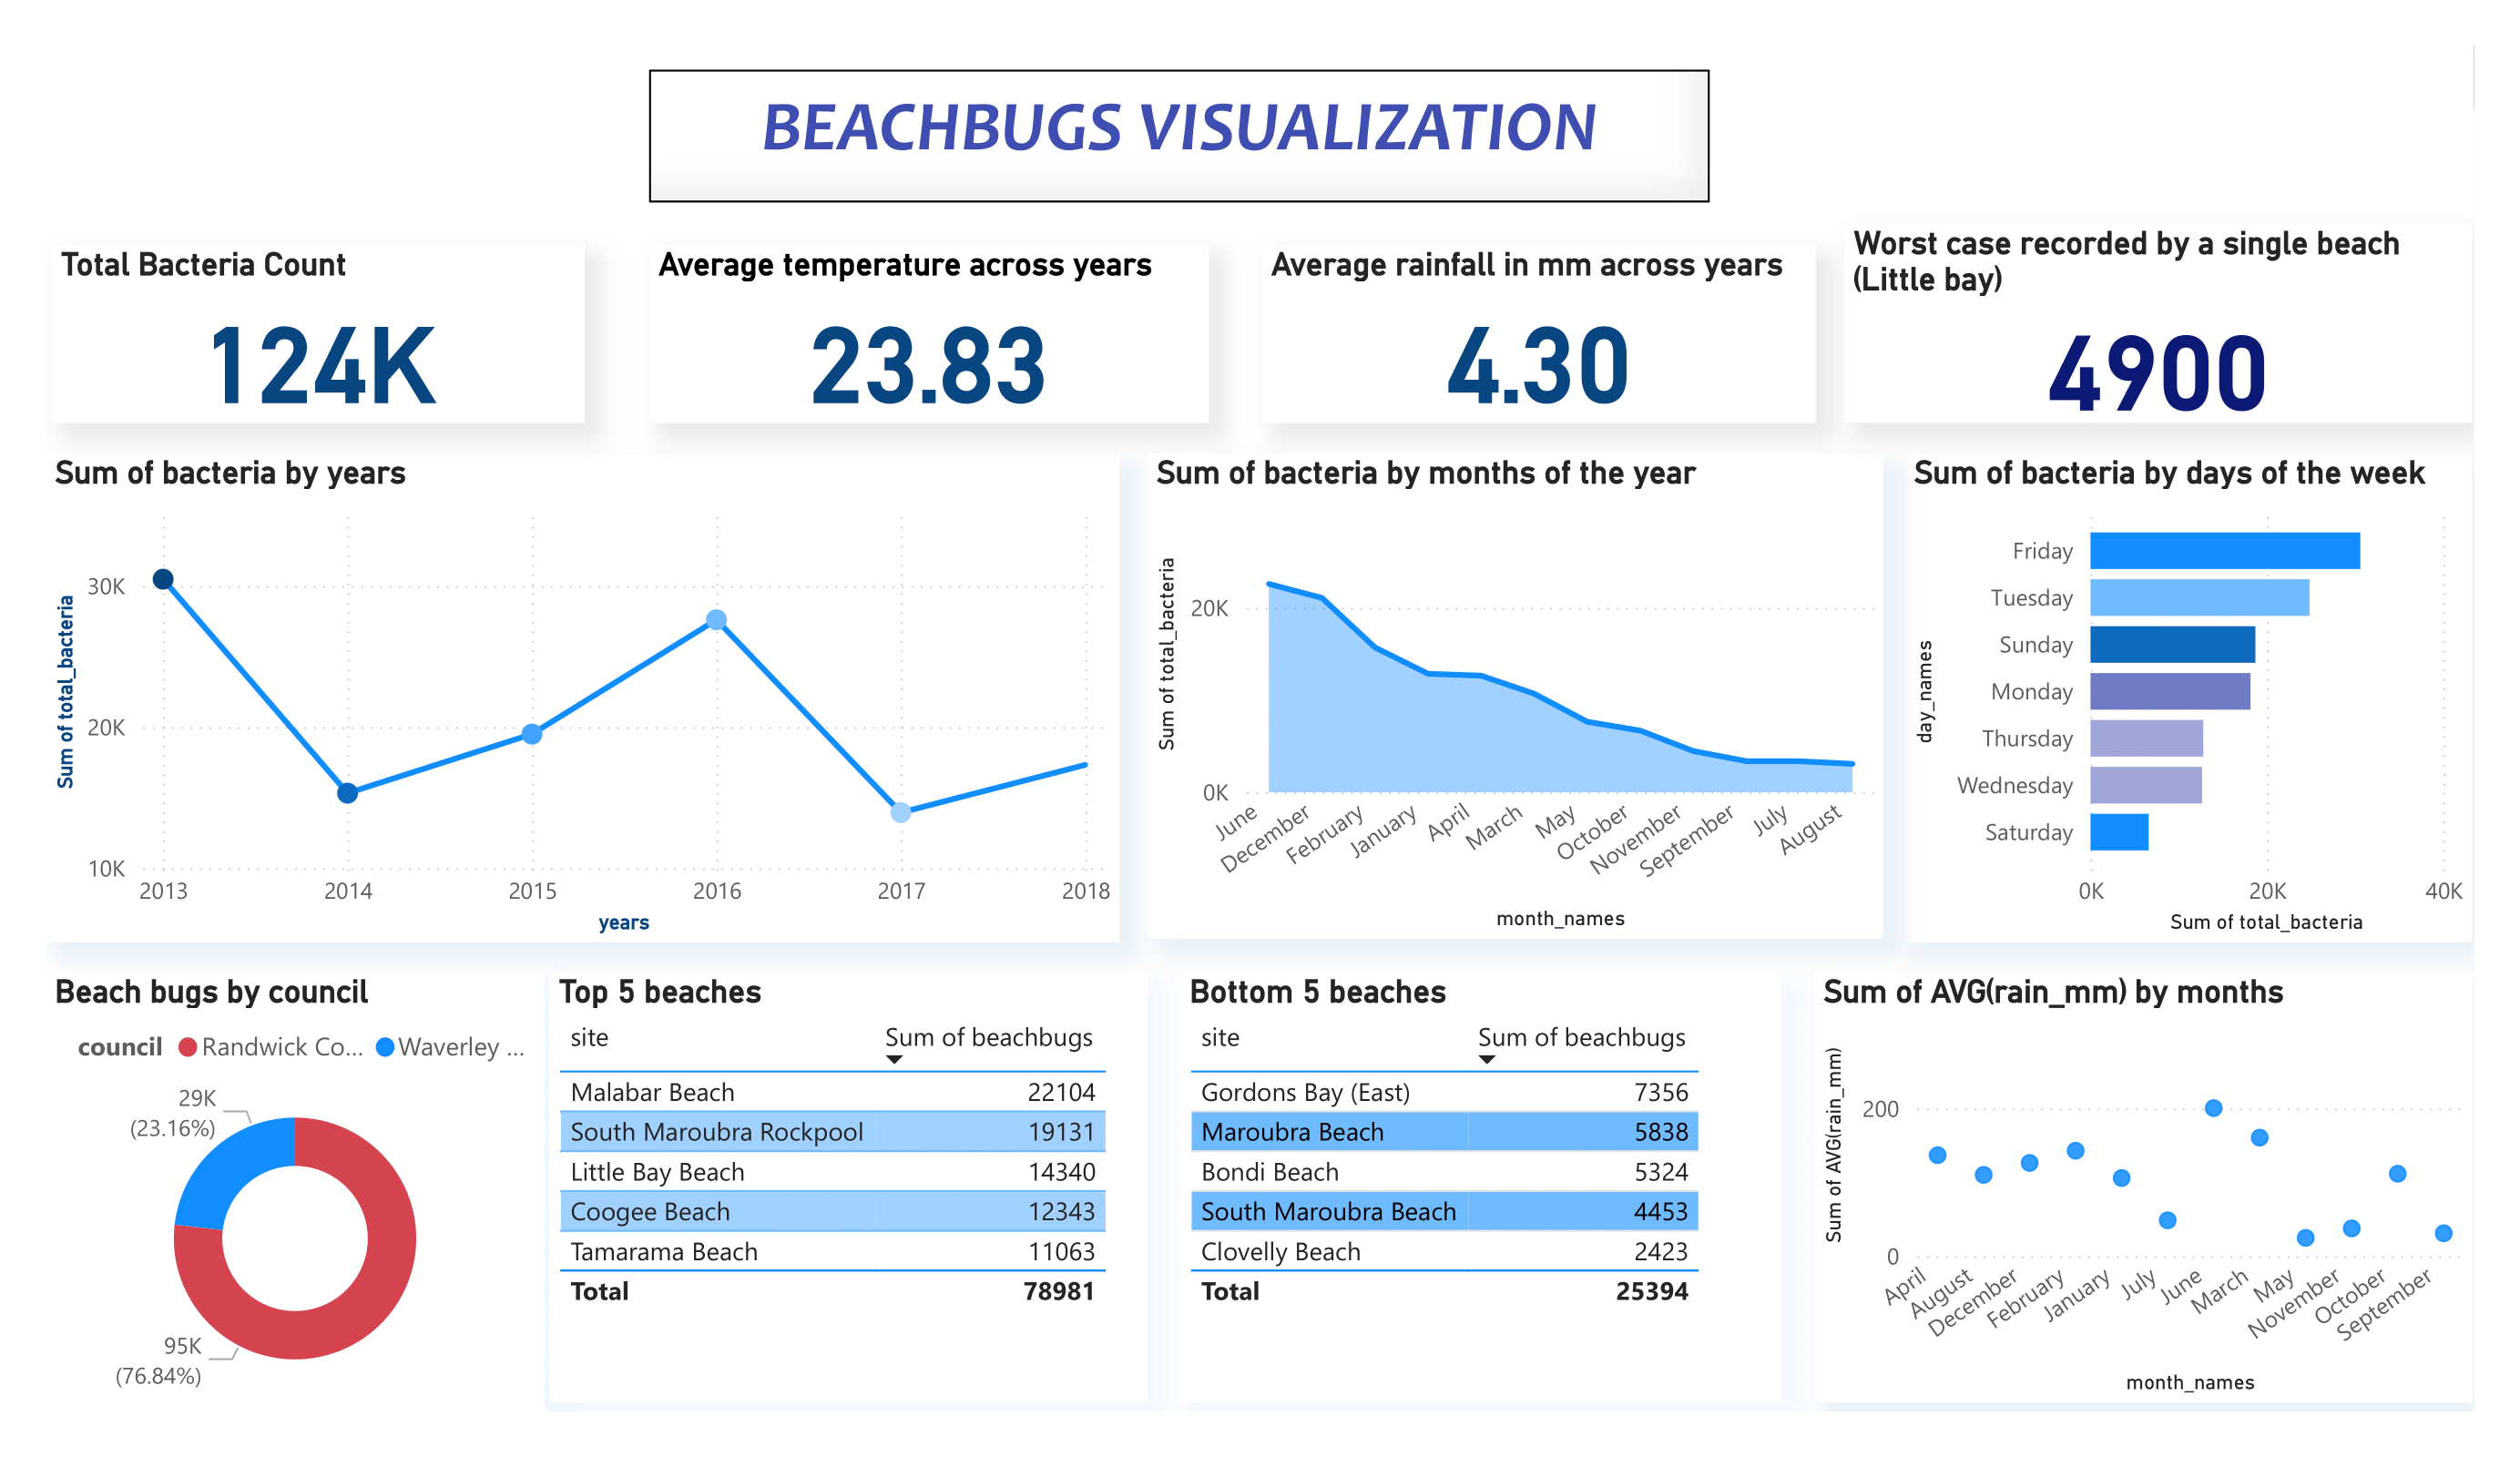

What the dashboard file says about the page in this screenshot:
{"tool":"powerbi","page":{"name":"Page 1","canvas":[1280,720],"ordinal":0},"visuals":[{"type":"textbox","box":[317.8,13,559.5,69.7],"z":0},{"type":"lineChart","title":"Sum of bacteria by years","fields":{"Category":["bacteria_by_day_month (2).years"],"Y":["Sum(bacteria_by_day_month (2).total_bacteria)"]},"box":[0,214.7,566.3,257.7],"z":1000},{"type":"card","title":"Total Bacteria Count","fields":{"Values":["Sum(bacteria_by_day_month (2).total_bacteria)"]},"box":[3.2,105.4,280.5,94.1],"z":2000},{"type":"card","title":"Average temperature across years","fields":{"Values":["Avg(bacteria_by_day_month (2).Avg_temp)"]},"box":[317.8,105.4,295.1,94.1],"z":3000},{"type":"card","title":"Average rainfall in mm across years","fields":{"Values":["Avg(bacteria_by_day_month (2).AVG(rain_mm))"]},"box":[640.5,105.4,291.9,94.1],"z":4000},{"type":"barChart","title":"Sum of bacteria by days of the week","fields":{"Category":["bacteria_by_day_month (2).day_names"],"Y":["Sum(bacteria_by_day_month (2).total_bacteria)"]},"box":[979.8,214.7,299,257.7],"z":5000},{"type":"areaChart","title":"Sum of bacteria by months of the year","fields":{"Category":["bacteria_by_day_month (2).month_names"],"Y":["Sum(bacteria_by_day_month (2).total_bacteria)"]},"box":[580.6,214.7,388.1,256.1],"z":6000},{"type":"scatterChart","title":"Sum of AVG(rain_mm) by months","fields":{"Y":["Sum(bacteria_by_day_month (2).AVG(rain_mm))"],"X":["bacteria_by_day_month (2).month_names"]},"box":[932.4,488.1,347,227],"z":7000},{"type":"card","title":"Worst case recorded by a single beach (Little bay)","fields":{"Values":["bugcount_beaches.Measure"]},"box":[948.7,94.1,330.8,105.4],"z":8000},{"type":"donutChart","title":"Beach bugs by council","fields":{"Y":["Sum(bugcount_council.total)"],"Category":["bugcount_council.council"]},"box":[0,488.1,262.7,231.9],"z":9000},{"type":"tableEx","title":"Top 5 beaches","fields":{"Values":["bugcount_beaches.site","Sum(bugcount_beaches.beachbugs)"]},"box":[265.9,488.1,314.6,227],"z":10000},{"type":"tableEx","title":"Bottom 5 beaches","fields":{"Values":["bugcount_beaches.site","Sum(bugcount_beaches.beachbugs)"]},"box":[598.1,488.3,316.5,227.5],"z":11000}]}

Visuals, with their boxes in screenshot pixels (x1, y1, x2, y2):
textbox: BBox(648, 70, 1710, 202)
"Sum of bacteria by years" lineChart: BBox(46, 453, 1120, 942)
"Total Bacteria Count" card: BBox(52, 246, 584, 424)
"Average temperature across years" card: BBox(648, 246, 1209, 424)
"Average rainfall in mm across years" card: BBox(1261, 246, 1815, 424)
"Sum of bacteria by days of the week" barChart: BBox(1905, 453, 2472, 942)
"Sum of bacteria by months of the year" areaChart: BBox(1148, 453, 1883, 939)
"Sum of AVG(rain_mm) by months" scatterChart: BBox(1815, 972, 2474, 1402)
"Worst case recorded by a single beach (Little bay)" card: BBox(1846, 224, 2474, 424)
"Beach bugs by council" donutChart: BBox(46, 972, 544, 1411)
"Top 5 beaches" tableEx: BBox(550, 972, 1148, 1402)
"Bottom 5 beaches" tableEx: BBox(1180, 972, 1781, 1403)
